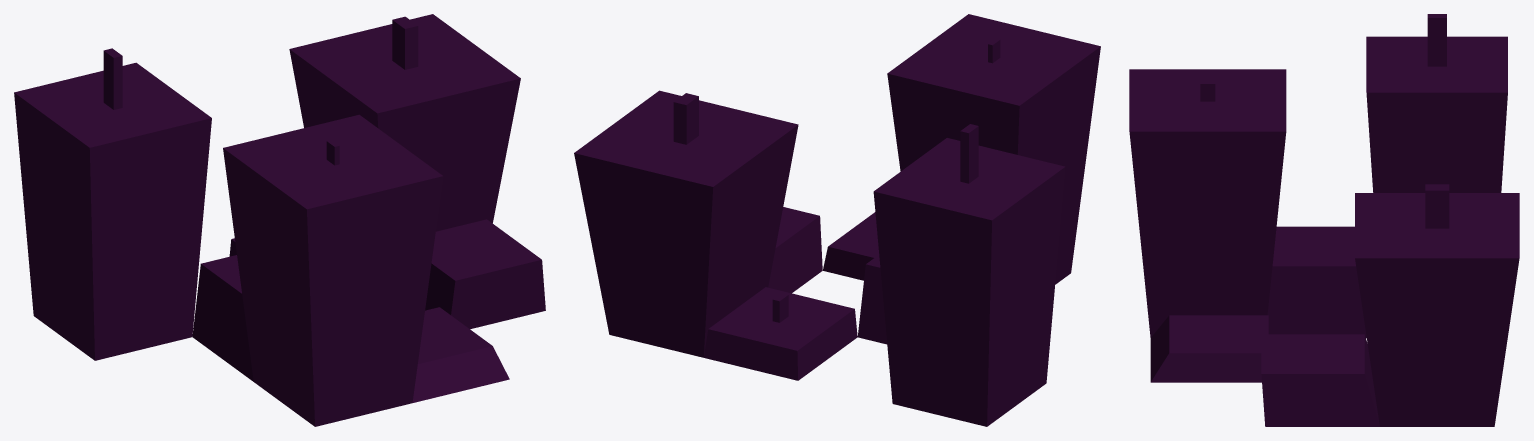
The model's file is city.FBX.
The picture shows the model from 3 angles, left to right: view 1: azimuth 30°, elevation 25°; view 2: azimuth 150°, elevation 25°; view 3: azimuth 270°, elevation 25°; orthographic projection. The views are drawn at different scales.
Visible parts, largest first — view 1: Plane001; view 2: Plane001; view 3: Plane001.
Part boxes in pixels (x1,y1,x2,y2): Plane001: (14, 14, 545, 426); Plane001: (574, 14, 1100, 426); Plane001: (1129, 14, 1519, 426).
Bounding box in the file's own units: 68.56 × 42.14 × 58.3.
